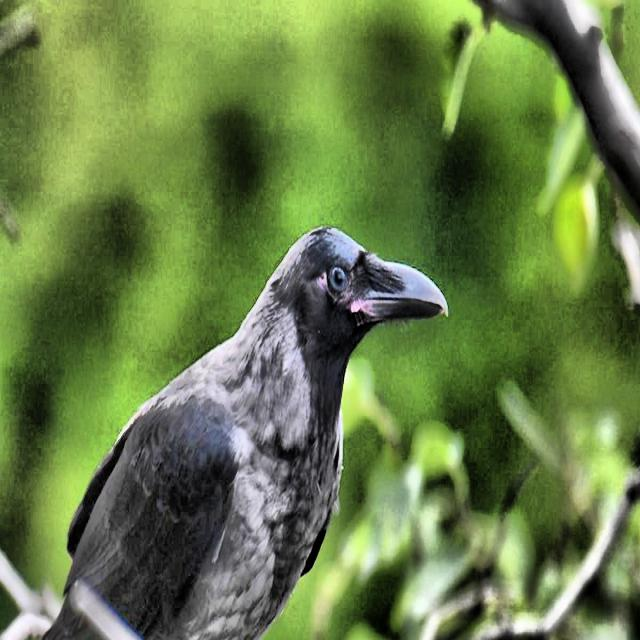crow: (37, 226, 491, 640)
